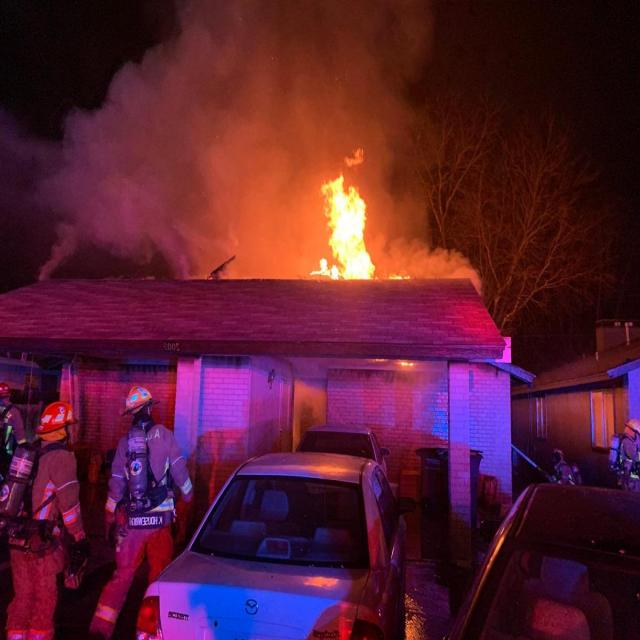fire: (309, 142, 389, 281)
